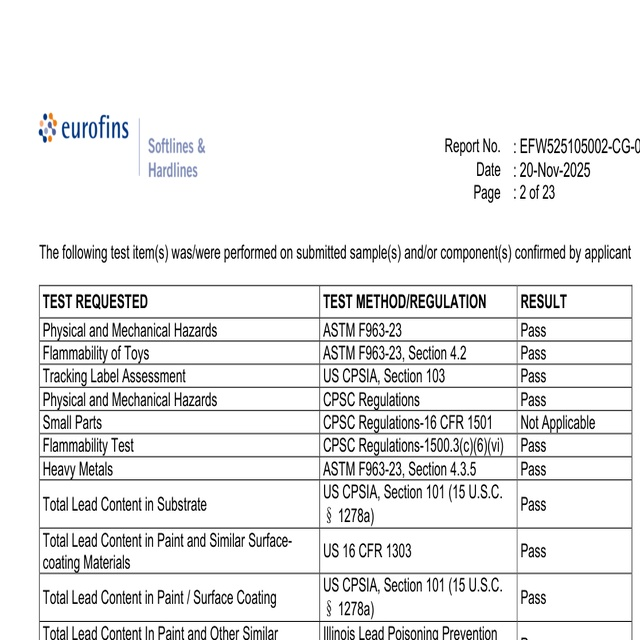eurofins: (33, 107, 133, 147)
